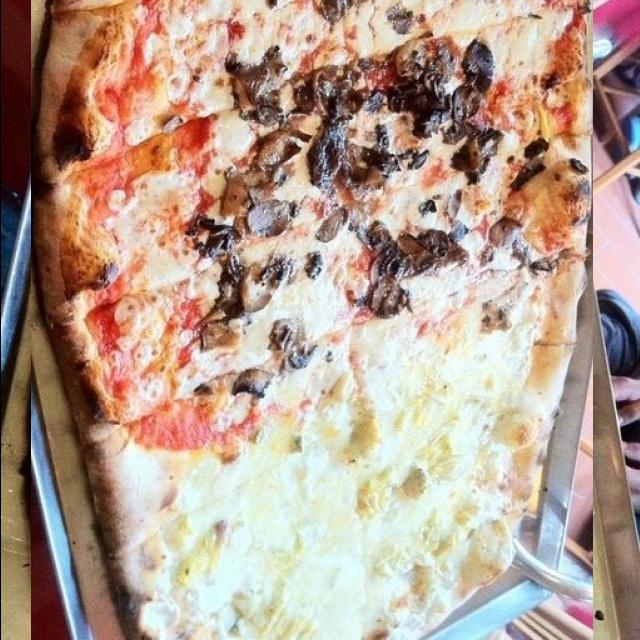pizza: (30, 0, 592, 640)
